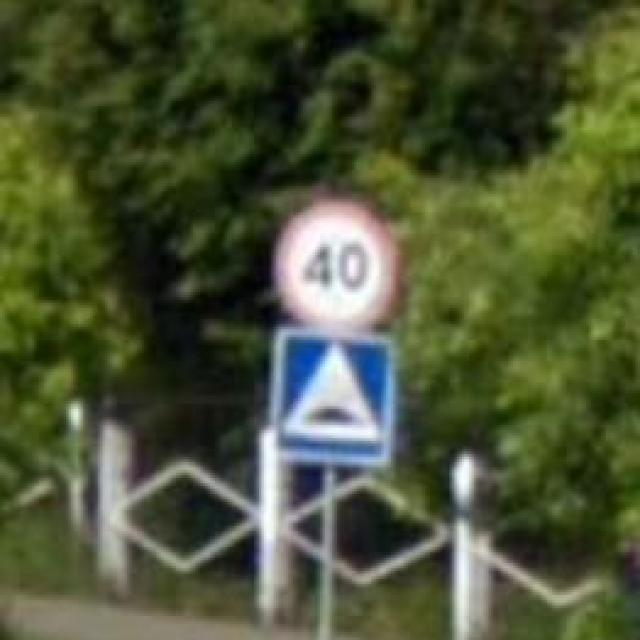traffic_sign: (269, 324, 398, 470), (268, 197, 401, 337)
